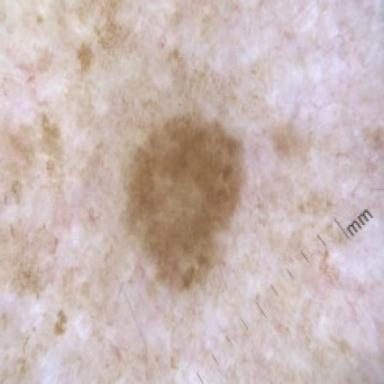Melanoma: (122, 112, 244, 289)
